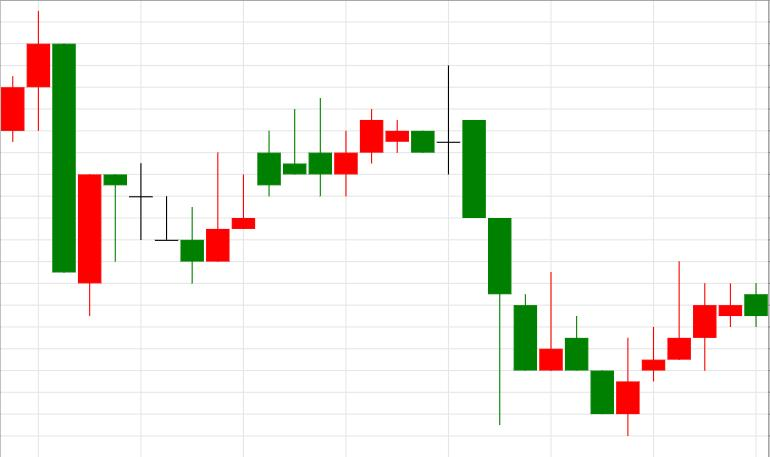three_black_crows_fall: (206, 66, 536, 424)
